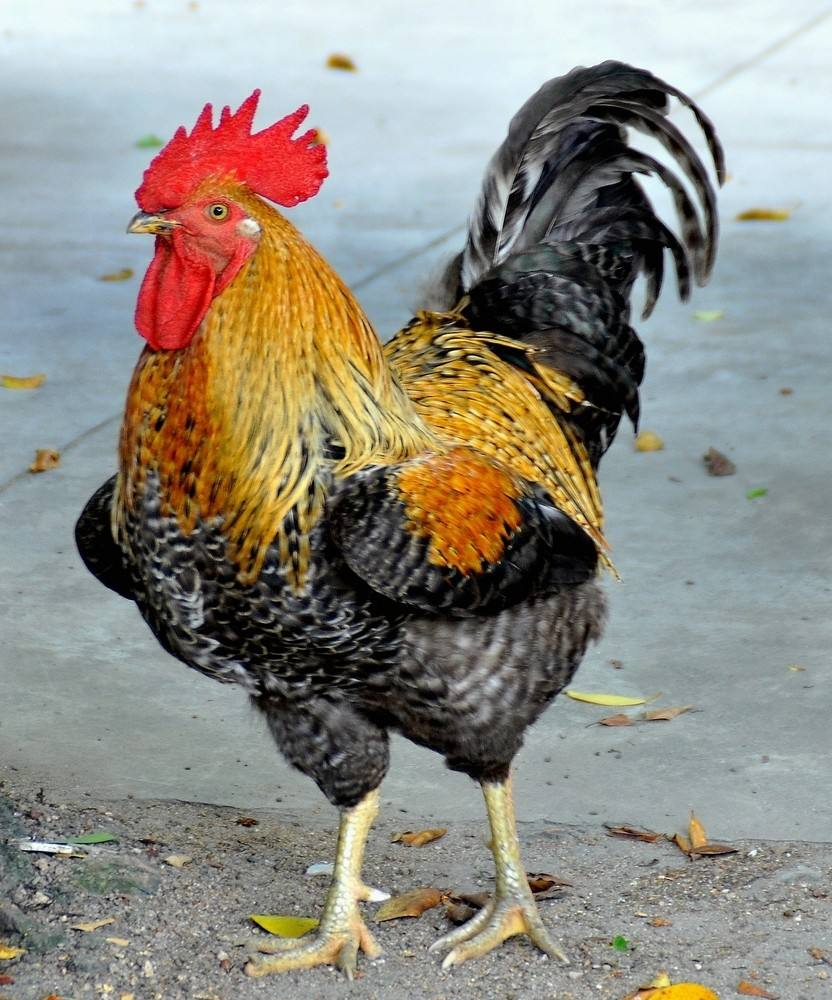chicken: (119, 43, 722, 978)
